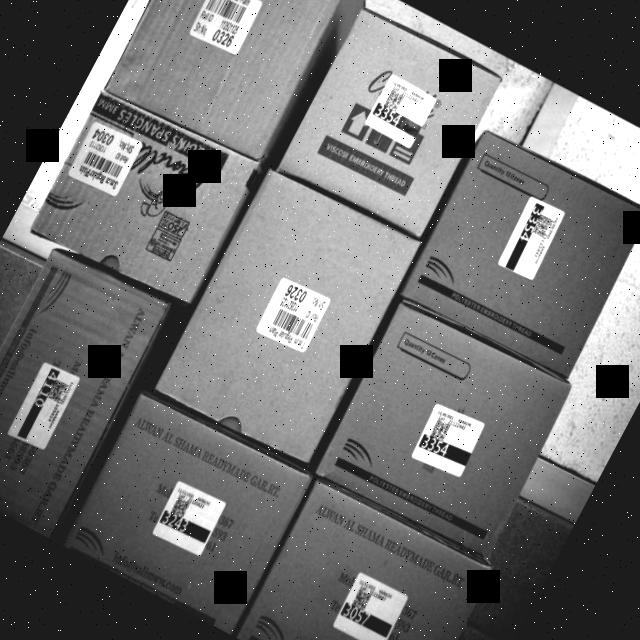box: (156, 166, 422, 462), (315, 308, 569, 556), (399, 124, 640, 379), (60, 393, 308, 632), (285, 4, 506, 233), (29, 85, 258, 306), (0, 242, 173, 531), (235, 478, 494, 640), (104, 0, 358, 155)
